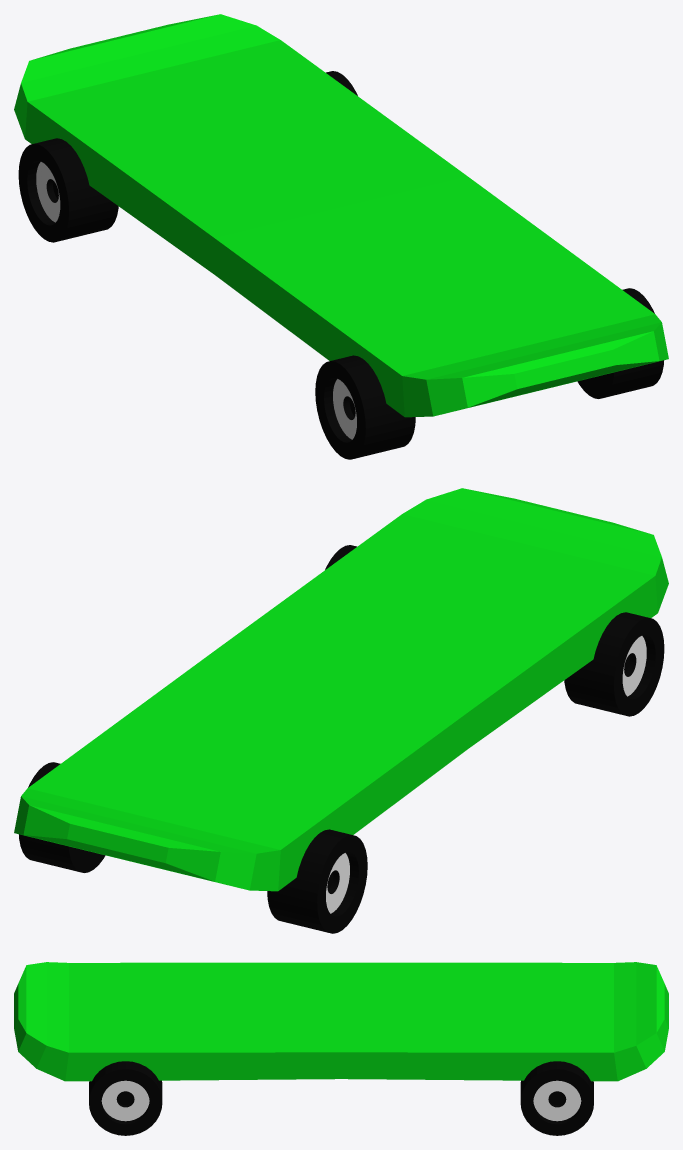
The model's file is skeyt.fbx.
3 views of the same model, one above another, from view 1: azimuth 30°, elevation 25°; view 2: azimuth 150°, elevation 25°; view 3: azimuth 270°, elevation 25° (orthographic). The views are drawn at different scales.
Visible parts, largest first — view 1: Cube.003; view 2: Cube.003; view 3: Cube.003.
Part boxes in pixels (box(x1,y1,x2,y2)): Cube.003: box(14, 14, 668, 459); Cube.003: box(14, 488, 668, 933); Cube.003: box(14, 962, 668, 1135).
Bounding box in the file's own units: 85.92 × 31.69 × 224.
